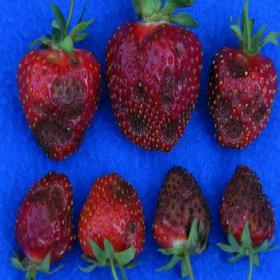Anthracnose Fruit Rot: (105, 22, 202, 152), (30, 52, 102, 162), (208, 50, 271, 149), (153, 164, 211, 239), (219, 164, 275, 239), (103, 173, 144, 246), (25, 182, 67, 226)
